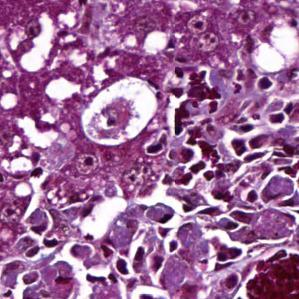ballooning: (80, 75, 161, 148)
